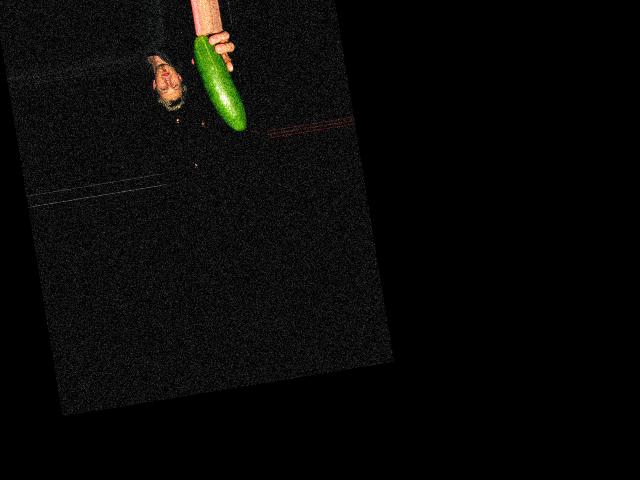cucumber: (192, 31, 248, 135)
